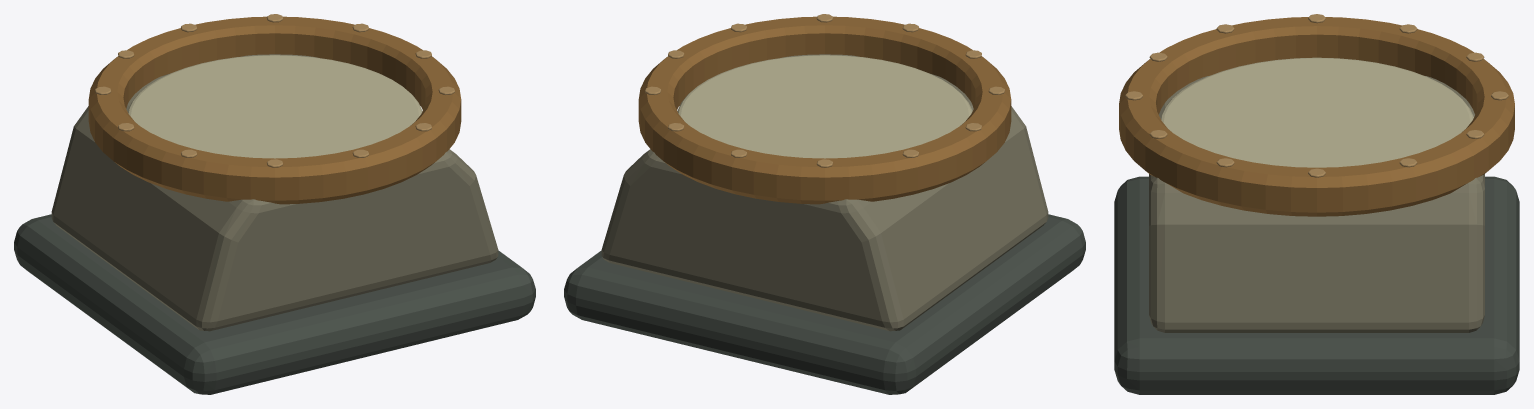
File: VAULT_TREASURE_PLINTH.hi.glb
3 renders of one model, left to right at view 1: azimuth 30°, elevation 25°; view 2: azimuth 150°, elevation 25°; view 3: azimuth 270°, elevation 25°, orthographic. The views are drawn at different scales.
Visible parts, largest first — view 1: Body_Mesh; view 2: Body_Mesh; view 3: Body_Mesh.
Part boxes in pixels (bbox=[...]): Body_Mesh: bbox=[14, 14, 535, 394]; Body_Mesh: bbox=[564, 14, 1085, 394]; Body_Mesh: bbox=[1114, 14, 1519, 394].
Bounding box in the file's own units: 0.93 × 0.523 × 0.88.
